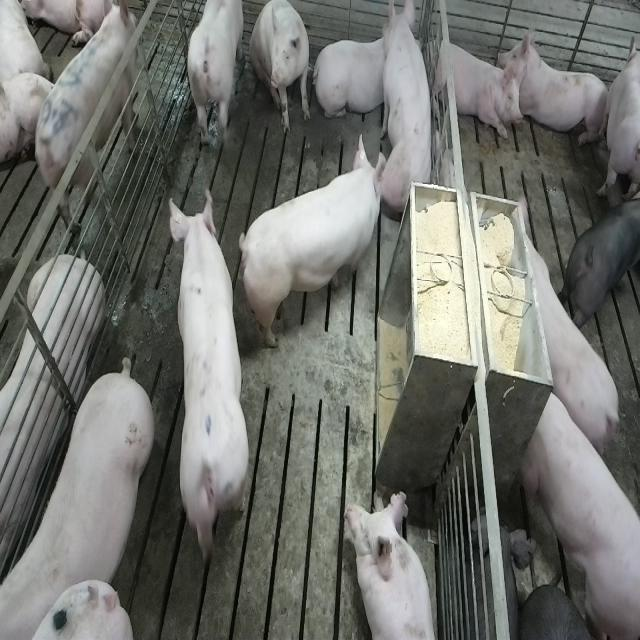Feeding: (235, 136, 380, 352)
Sitting: (378, 4, 437, 221), (250, 1, 312, 137)
Standing: (174, 195, 258, 578), (517, 391, 638, 640), (34, 0, 145, 232), (530, 266, 620, 470), (566, 185, 640, 337), (186, 0, 244, 160)
Sternal_lying: (0, 255, 103, 579), (501, 20, 610, 150), (347, 488, 439, 640), (427, 31, 524, 142), (315, 33, 394, 124)
